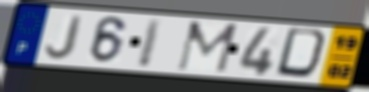4: (238, 26, 275, 77)
6: (85, 16, 129, 65)
D: (273, 26, 333, 82)
I: (135, 17, 165, 69)
J: (43, 14, 86, 61)
M: (174, 20, 240, 75)
